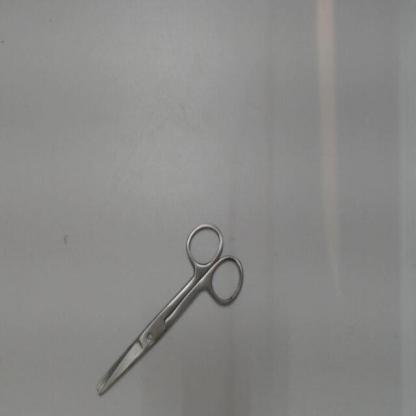Dressing Scissors: (89, 212, 255, 406)
